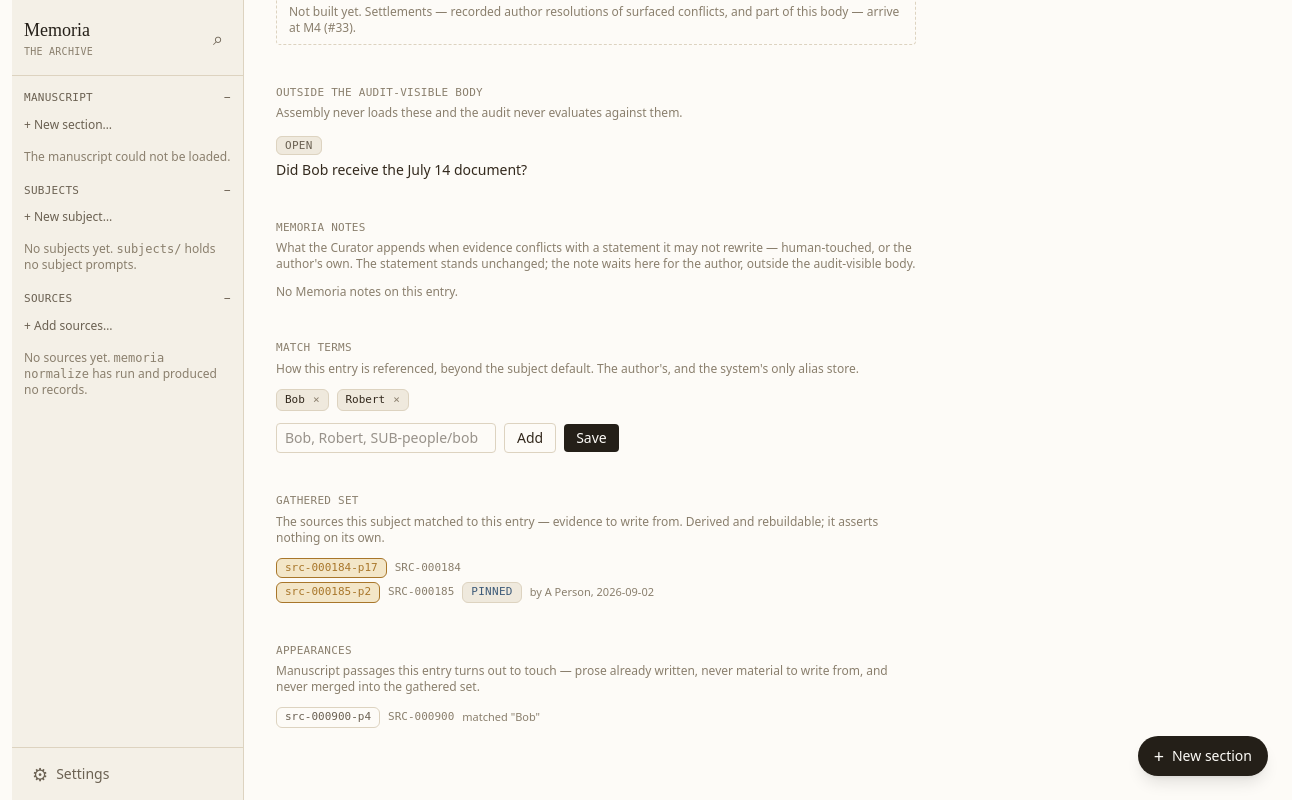
it: editing match terms - the first durable write (ADR-0003) › a stale write is refused whole, and the author's edits survive the refusal
(page scrolled)
Type "Bobby" into the field named "New match term". click: [386, 438]
box: [276,423,496,453]
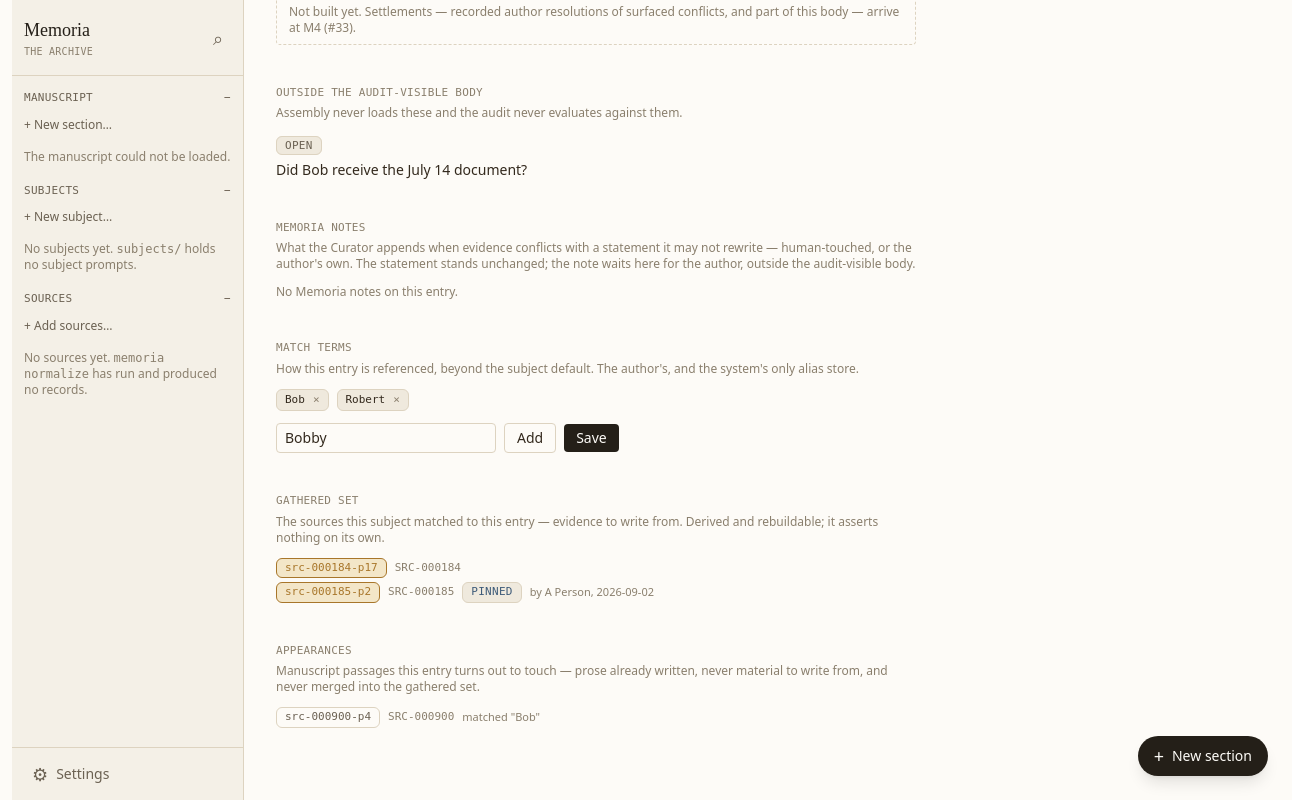
Click the button "Add". click: [530, 438]
box: [504,423,556,453]
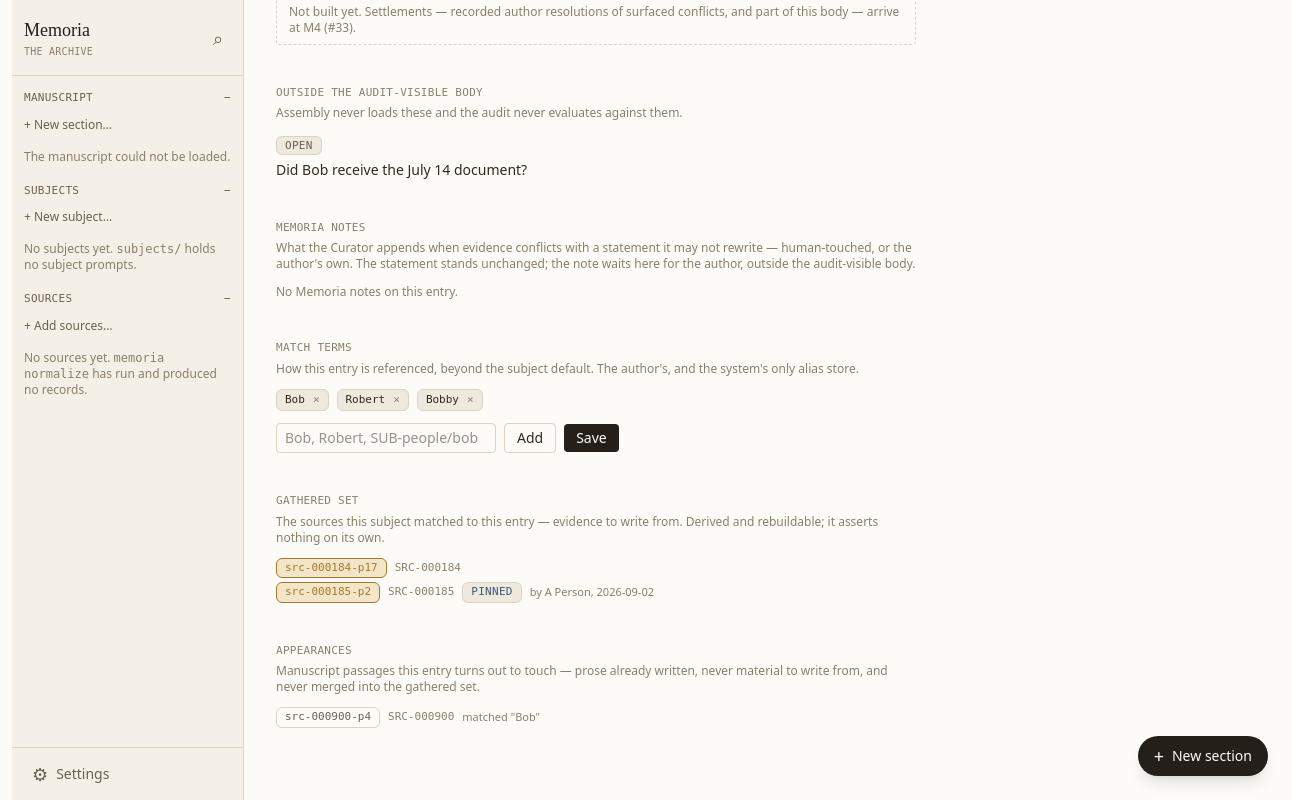
Click the button "Save". click: [592, 438]
box: [564,424,619,452]
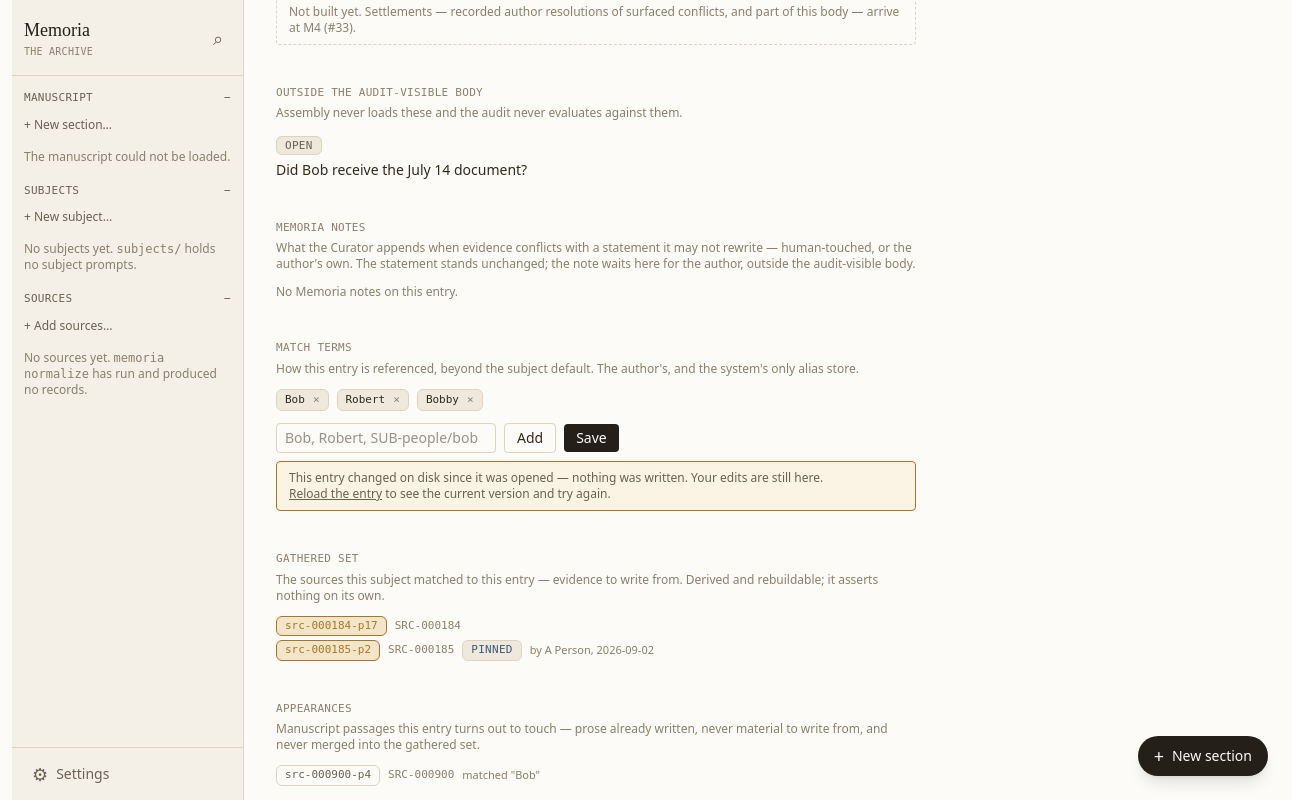
Check: the list item "Bobby" is shown, box [426,392,459,406]
Check: the text "nothing was written" is shown, box [289,469,823,486]
Check: the button "Reload the entry" is shown, box [289,486,382,502]
